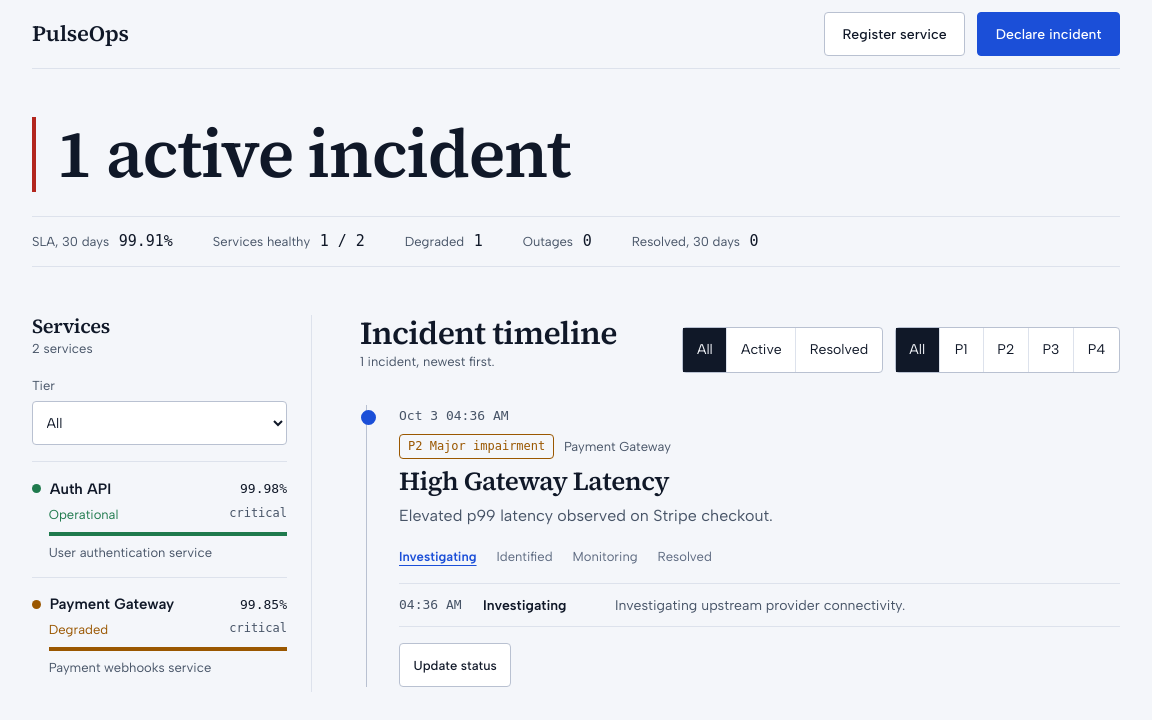
Test: PulseOps Frontend App › opens and closes the Register service modal
Step 1. Click the button "Register service" → (895, 34), box [824,12,965,56]
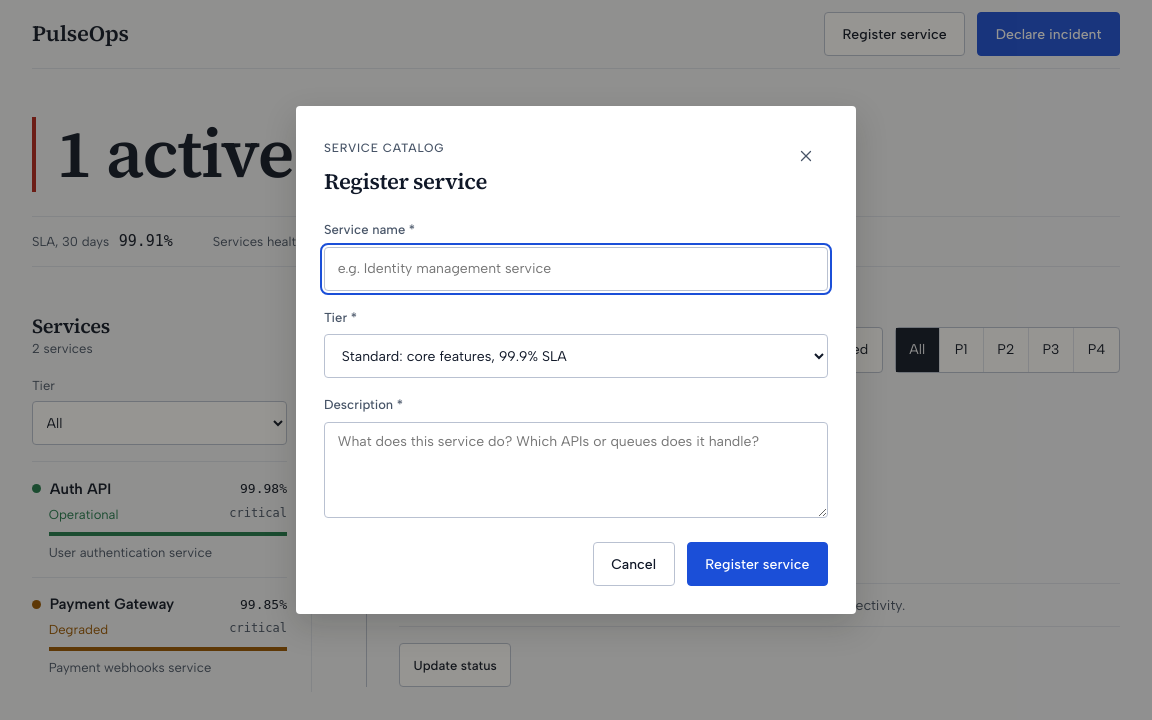
expect the heading "Register service" is shown: met, box [324,162,487,199]
expect the field labelled "Service name *" is shown: met, box [324,247,828,291]
Step 2. Click the button named "Close modal" → (806, 156), box [784,134,828,178]
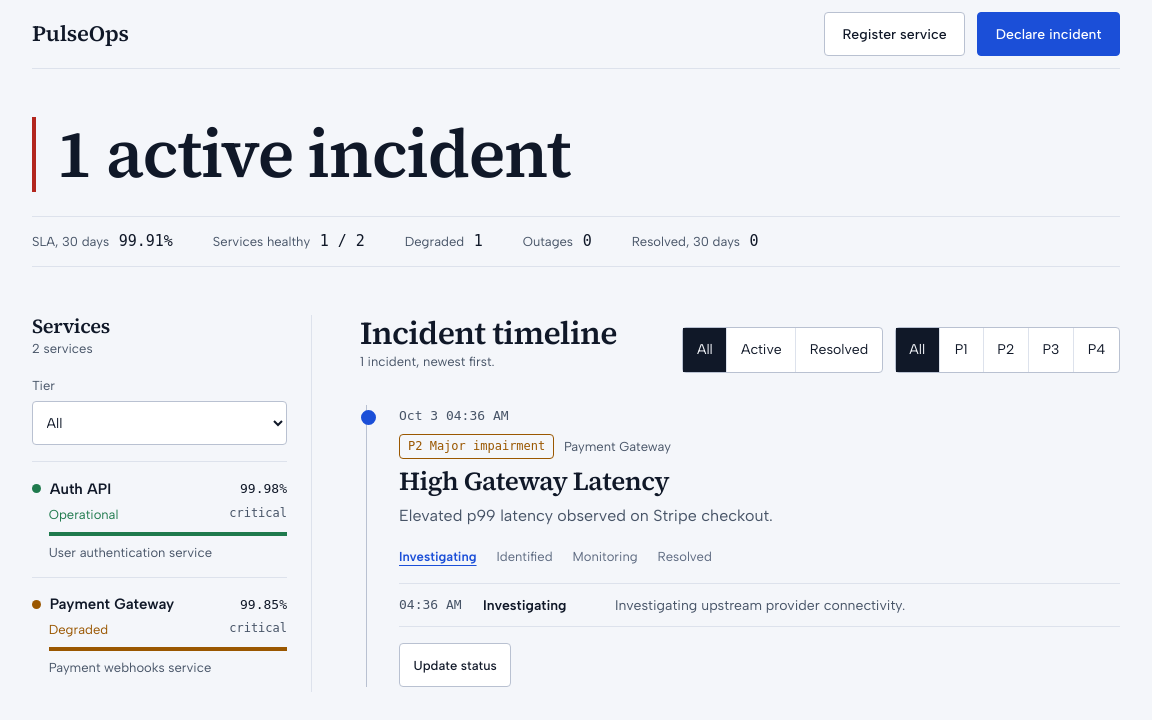
expect the dialog is gone: met
